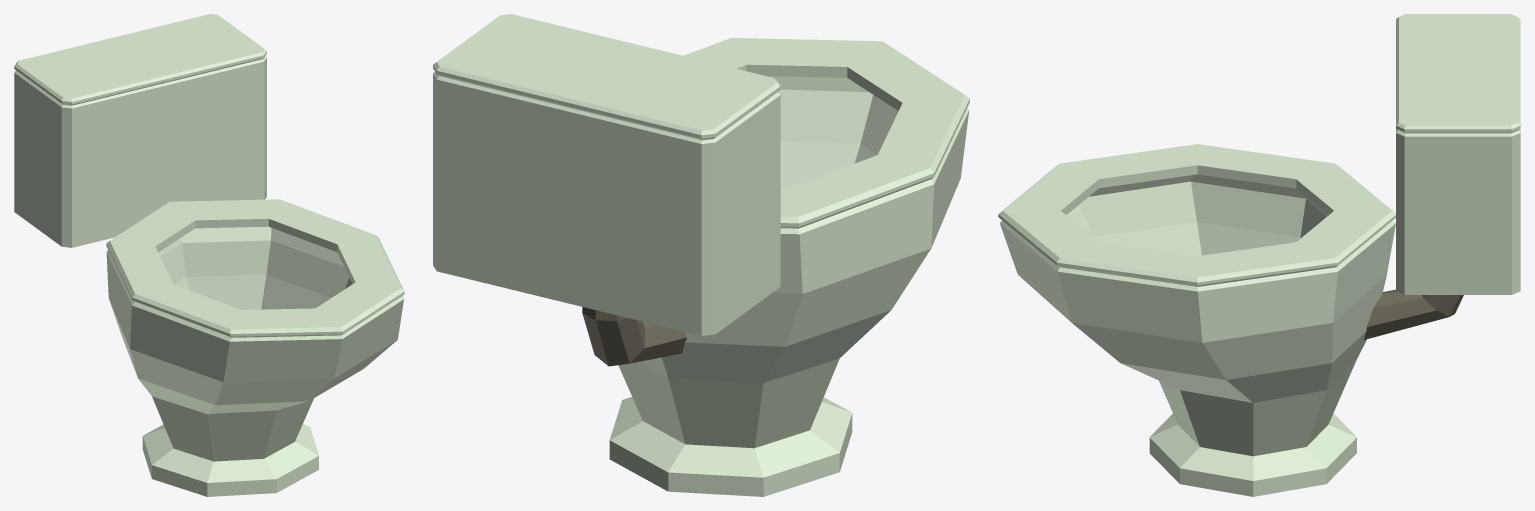
The model's file is toilet.glb.
The picture shows the model from 3 angles, left to right: view 1: azimuth 30°, elevation 25°; view 2: azimuth 150°, elevation 25°; view 3: azimuth 270°, elevation 25°; orthographic projection. The views are drawn at different scales.
Visible parts, largest first — view 1: Toilet; view 2: Toilet; view 3: Toilet.
Part boxes in pixels (box(x1,y1,x2,y2)): Toilet: box(14, 14, 404, 496); Toilet: box(433, 14, 969, 496); Toilet: box(998, 14, 1520, 496).
Size of the model in its own units: 0.7796 by 1.02 by 1.26.
Materials: 1 (1 with a texture image).
